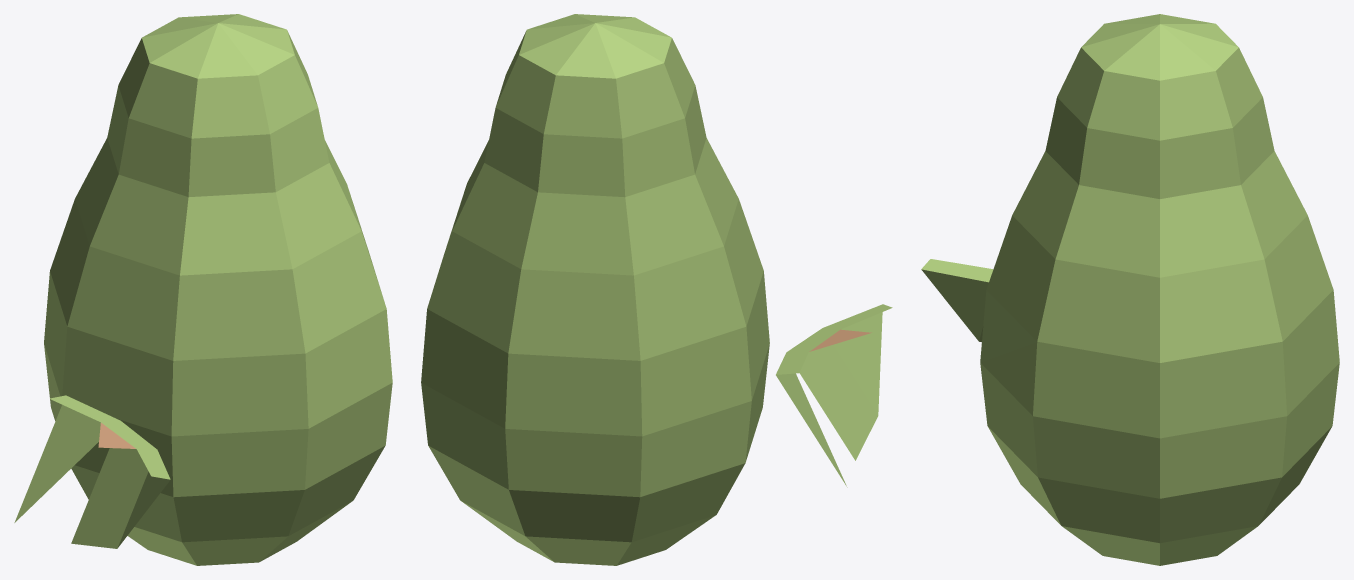
Rendered from Papaya.glb.
3 views of the same model, side by side, from view 1: azimuth 30°, elevation 25°; view 2: azimuth 150°, elevation 25°; view 3: azimuth 270°, elevation 25° (orthographic).
Parts seen in each view (by area): view 1: Papaya; view 2: Papaya; view 3: Papaya.
Boxes of the visible parts, x1=… form: Papaya: x1=14, y1=14, x2=392, y2=565; Papaya: x1=421, y1=14, x2=892, y2=565; Papaya: x1=921, y1=14, x2=1339, y2=565.
Size of the model in its own units: 0.381 by 0.5 by 0.3608.
